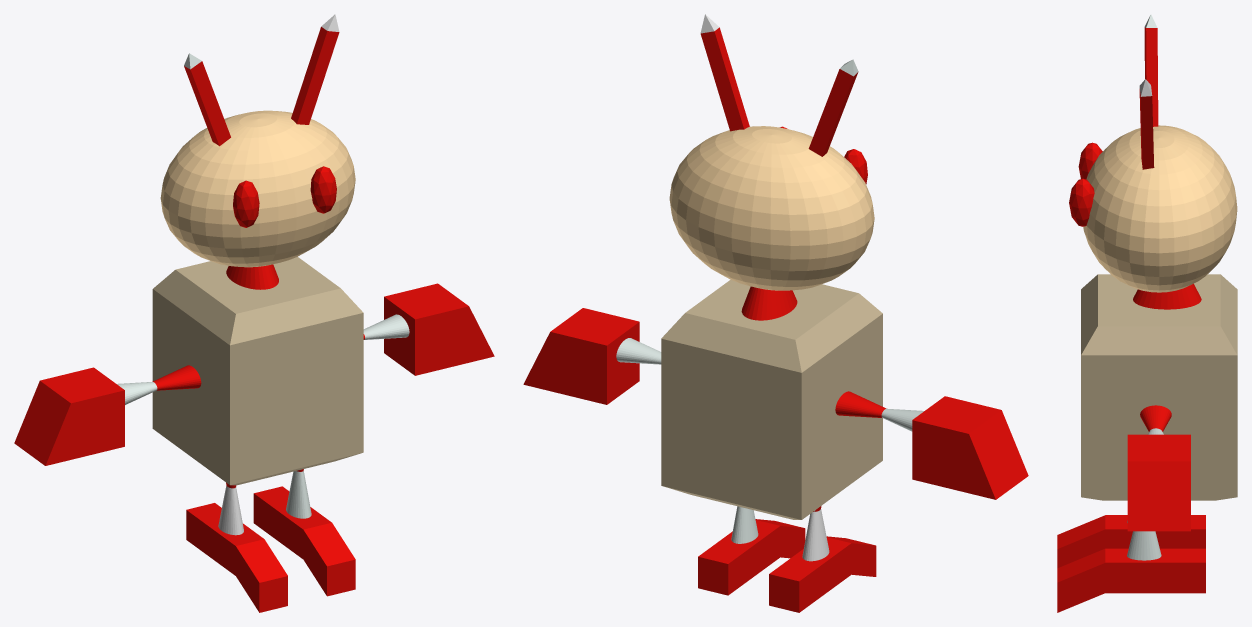
File: robo.fbx
3 views of the same model, side by side, from view 1: azimuth 30°, elevation 25°; view 2: azimuth 150°, elevation 25°; view 3: azimuth 270°, elevation 25° (orthographic). The views are drawn at different scales.
Parts seen in each view (by area): view 1: Cube, Sphere, Cube.006, Cube.003, Cube.005, Cube.004, Cube.002, Cube.001, Cylinder.003, Cone, Icosphere, Icosphere.001 (+3 smaller); view 2: Cube, Sphere, Cube.006, Cube.003, Cube.004, Cube.005, Cube.002, Cube.001, Cone, Cylinder.003, Cylinder, Cylinder.002 (+1 smaller); view 3: Cube, Sphere, Cube.005, Cube.003, Cube.004, Cone, Cube.001, Cube.002, Icosphere.001, Cylinder.001, Cylinder.002, Icosphere.
Part boxes in pixels (left/top/right/bottom): Cube: left=152, top=256, right=363, bottom=485; Sphere: left=160, top=110, right=355, bottom=267; Cube.006: left=14, top=367, right=124, bottom=465; Cube.003: left=384, top=283, right=494, bottom=375; Cube.005: left=253, top=486, right=355, bottom=596; Cube.004: left=186, top=503, right=287, bottom=612; Cube.002: left=291, top=14, right=339, bottom=124; Cube.001: left=184, top=53, right=230, bottom=146; Cylinder.003: left=117, top=365, right=201, bottom=404; Cone: left=226, top=264, right=278, bottom=289; Icosphere: left=233, top=180, right=259, bottom=227; Icosphere.001: left=310, top=166, right=336, bottom=213; Cube: left=661, top=279, right=882, bottom=519; Sphere: left=669, top=126, right=874, bottom=290; Cube.006: left=912, top=396, right=1028, bottom=499; Cube.003: left=523, top=308, right=639, bottom=404; Cube.004: left=769, top=536, right=876, bottom=612; Cube.005: left=698, top=519, right=805, bottom=595; Cube.002: left=700, top=14, right=749, bottom=131; Cube.001: left=808, top=59, right=858, bottom=156; Cone: left=741, top=286, right=797, bottom=320; Cylinder.003: left=835, top=391, right=923, bottom=431; Cylinder: left=802, top=506, right=829, bottom=561; Cylinder.002: left=616, top=338, right=661, bottom=364; Cube: left=1081, top=274, right=1237, bottom=500; Sphere: left=1083, top=125, right=1237, bottom=292; Cube.005: left=1057, top=548, right=1205, bottom=612; Cube.003: left=1127, top=434, right=1190, bottom=531; Cube.004: left=1057, top=515, right=1205, bottom=568; Cone: left=1133, top=283, right=1201, bottom=309; Cube.001: left=1144, top=14, right=1158, bottom=126; Cube.002: left=1139, top=79, right=1154, bottom=169; Icosphere.001: left=1069, top=178, right=1094, bottom=226; Cylinder.001: left=1127, top=531, right=1161, bottom=560; Cylinder.002: left=1140, top=405, right=1171, bottom=434; Icosphere: left=1078, top=142, right=1102, bottom=179.
Size of the model in its own units: 672 by 769 by 230.
